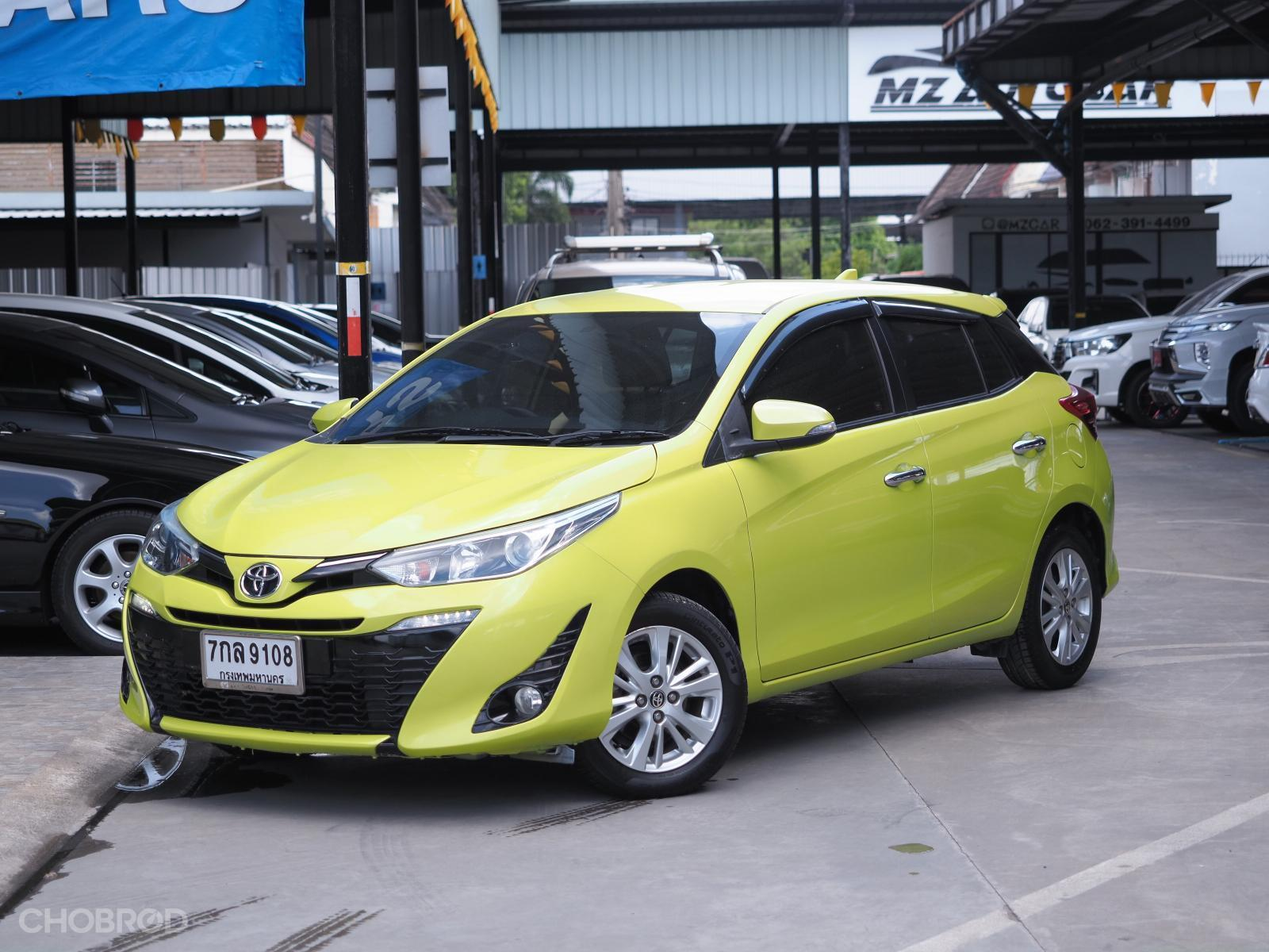license-plate: (192, 619, 315, 706)
